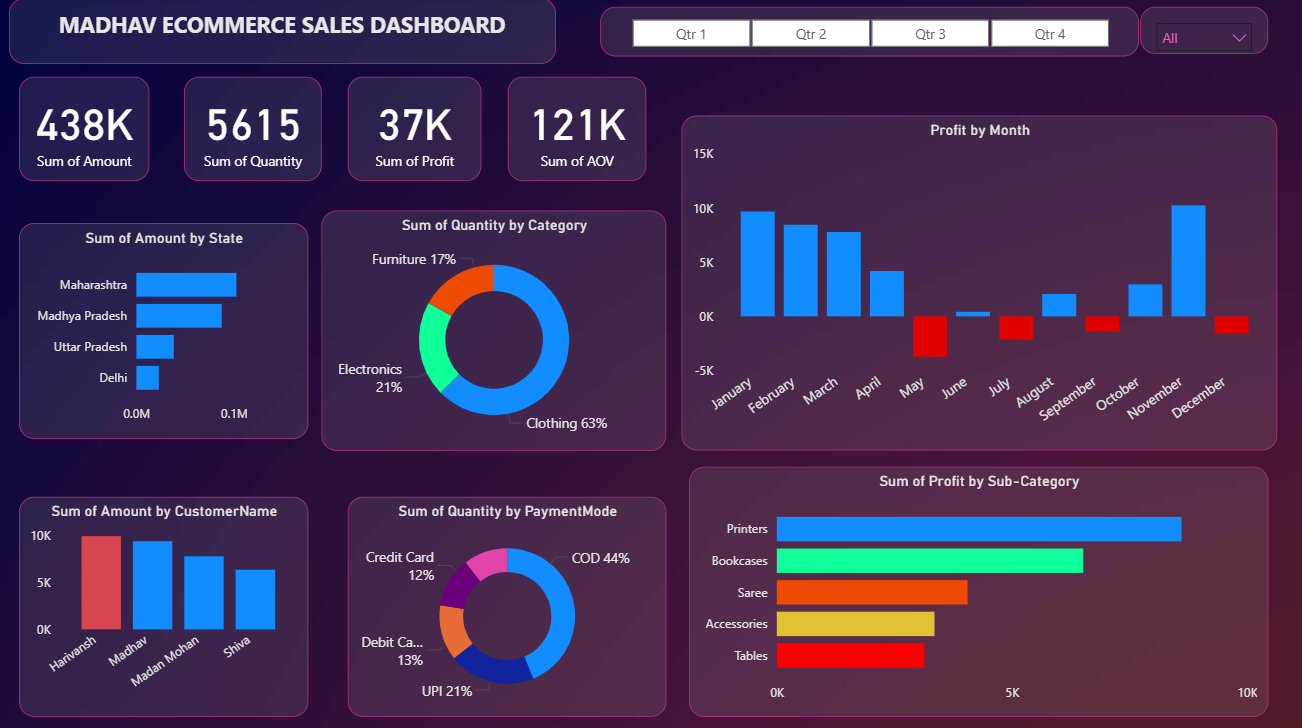

The page's visual inventory and layout, read from the dashboard file:
{"tool":"powerbi","page":{"name":"Page 1","canvas":[1280,720],"ordinal":0},"visuals":[{"type":"textbox","box":[9.6,0,536.5,64.5],"z":0},{"type":"columnChart","title":"Profit by Month","fields":{"Category":["Orders.Order Date.Variation.Date Hierarchy.Month"],"Y":["Sum(Details.Profit)"]},"box":[669.8,115.1,584.9,329.1],"z":1000},{"type":"clusteredBarChart","fields":{"Category":["Details.Sub-Category"],"Y":["Sum(Details.Profit)"]},"box":[676.7,460.5,568.6,245.3],"z":2000},{"type":"donutChart","fields":{"Category":["Details.Category"],"Y":["Sum(Details.Quantity)"]},"box":[316.3,208.1,338.4,236],"z":3000},{"type":"donutChart","fields":{"Category":["Details.PaymentMode"],"Y":["Sum(Details.Quantity)"]},"box":[341.9,489.5,312.8,216.3],"z":4000},{"type":"card","fields":{"Values":["Sum(Details.Quantity)"]},"box":[181.4,77.9,134.9,102.3],"z":5000},{"type":"card","fields":{"Values":["Sum(Details.Amount)"]},"box":[19.8,77.9,127.9,102.3],"z":6000},{"type":"card","fields":{"Values":["Sum(Details.Profit)"]},"box":[341.9,77.9,131.4,102.3],"z":7000},{"type":"card","fields":{"Values":["Sum(Details.AOV)"]},"box":[498.8,77.9,136,102.3],"z":8000},{"type":"clusteredBarChart","fields":{"Category":["Orders.State"],"Y":["Sum(Details.Amount)"]},"box":[19.8,220.9,283.7,211.6],"z":9000},{"type":"columnChart","fields":{"Category":["Orders.CustomerName"],"Y":["Sum(Details.Amount)"]},"box":[20,490,284,216],"z":10000},{"type":"slicer","fields":{"Values":["Orders.Order Date.Variation.Date Hierarchy.Quarter"]},"box":[590.7,8.1,529.1,48.8],"z":11000},{"type":"slicer","fields":{"Values":["Orders.State"]},"box":[1119.8,8.1,125.6,46.5],"z":12000}]}

Visuals, with their boxes in screenshot pixels (x1, y1, x2, y2), scaled from the page's 1280x720 canvas onto the 1302x728 screenshot:
textbox: {"left": 10, "top": 0, "right": 555, "bottom": 65}
"Profit by Month" columnChart: {"left": 681, "top": 116, "right": 1276, "bottom": 449}
clusteredBarChart - Details.Sub-Category x Sum(Details.Profit): {"left": 688, "top": 466, "right": 1267, "bottom": 714}
donutChart - Details.Category x Sum(Details.Quantity): {"left": 322, "top": 210, "right": 666, "bottom": 449}
donutChart - Details.PaymentMode x Sum(Details.Quantity): {"left": 348, "top": 495, "right": 666, "bottom": 714}
card - Sum(Details.Quantity): {"left": 185, "top": 79, "right": 322, "bottom": 182}
card - Sum(Details.Amount): {"left": 20, "top": 79, "right": 150, "bottom": 182}
card - Sum(Details.Profit): {"left": 348, "top": 79, "right": 481, "bottom": 182}
card - Sum(Details.AOV): {"left": 507, "top": 79, "right": 646, "bottom": 182}
clusteredBarChart - Orders.State x Sum(Details.Amount): {"left": 20, "top": 223, "right": 309, "bottom": 437}
columnChart - Orders.CustomerName x Sum(Details.Amount): {"left": 20, "top": 495, "right": 309, "bottom": 714}
slicer - Orders.Order Date.Variation.Date Hierarchy.Quarter: {"left": 601, "top": 8, "right": 1139, "bottom": 58}
slicer - Orders.State: {"left": 1139, "top": 8, "right": 1267, "bottom": 55}
